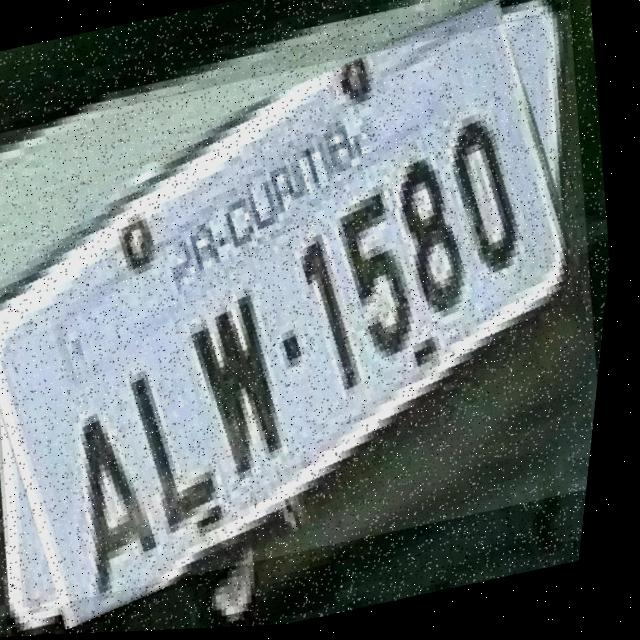LicensePlate: (0, 12, 637, 620)
